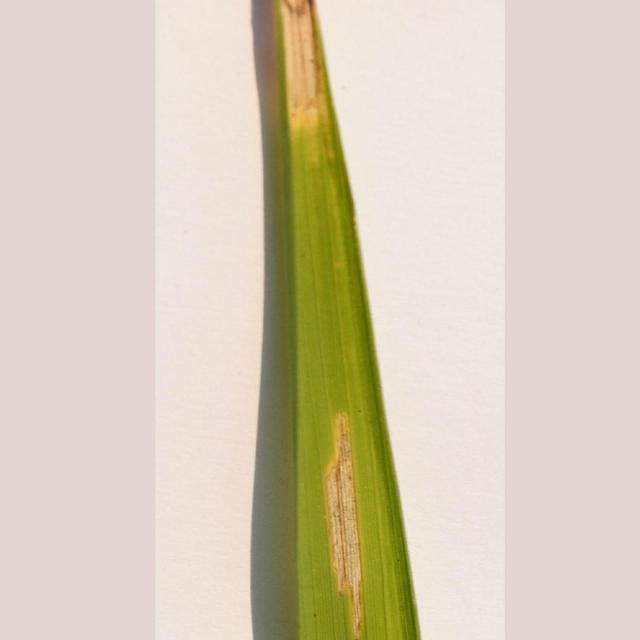Bacterial leaf blight: (312, 409, 380, 640), (276, 0, 342, 152)
